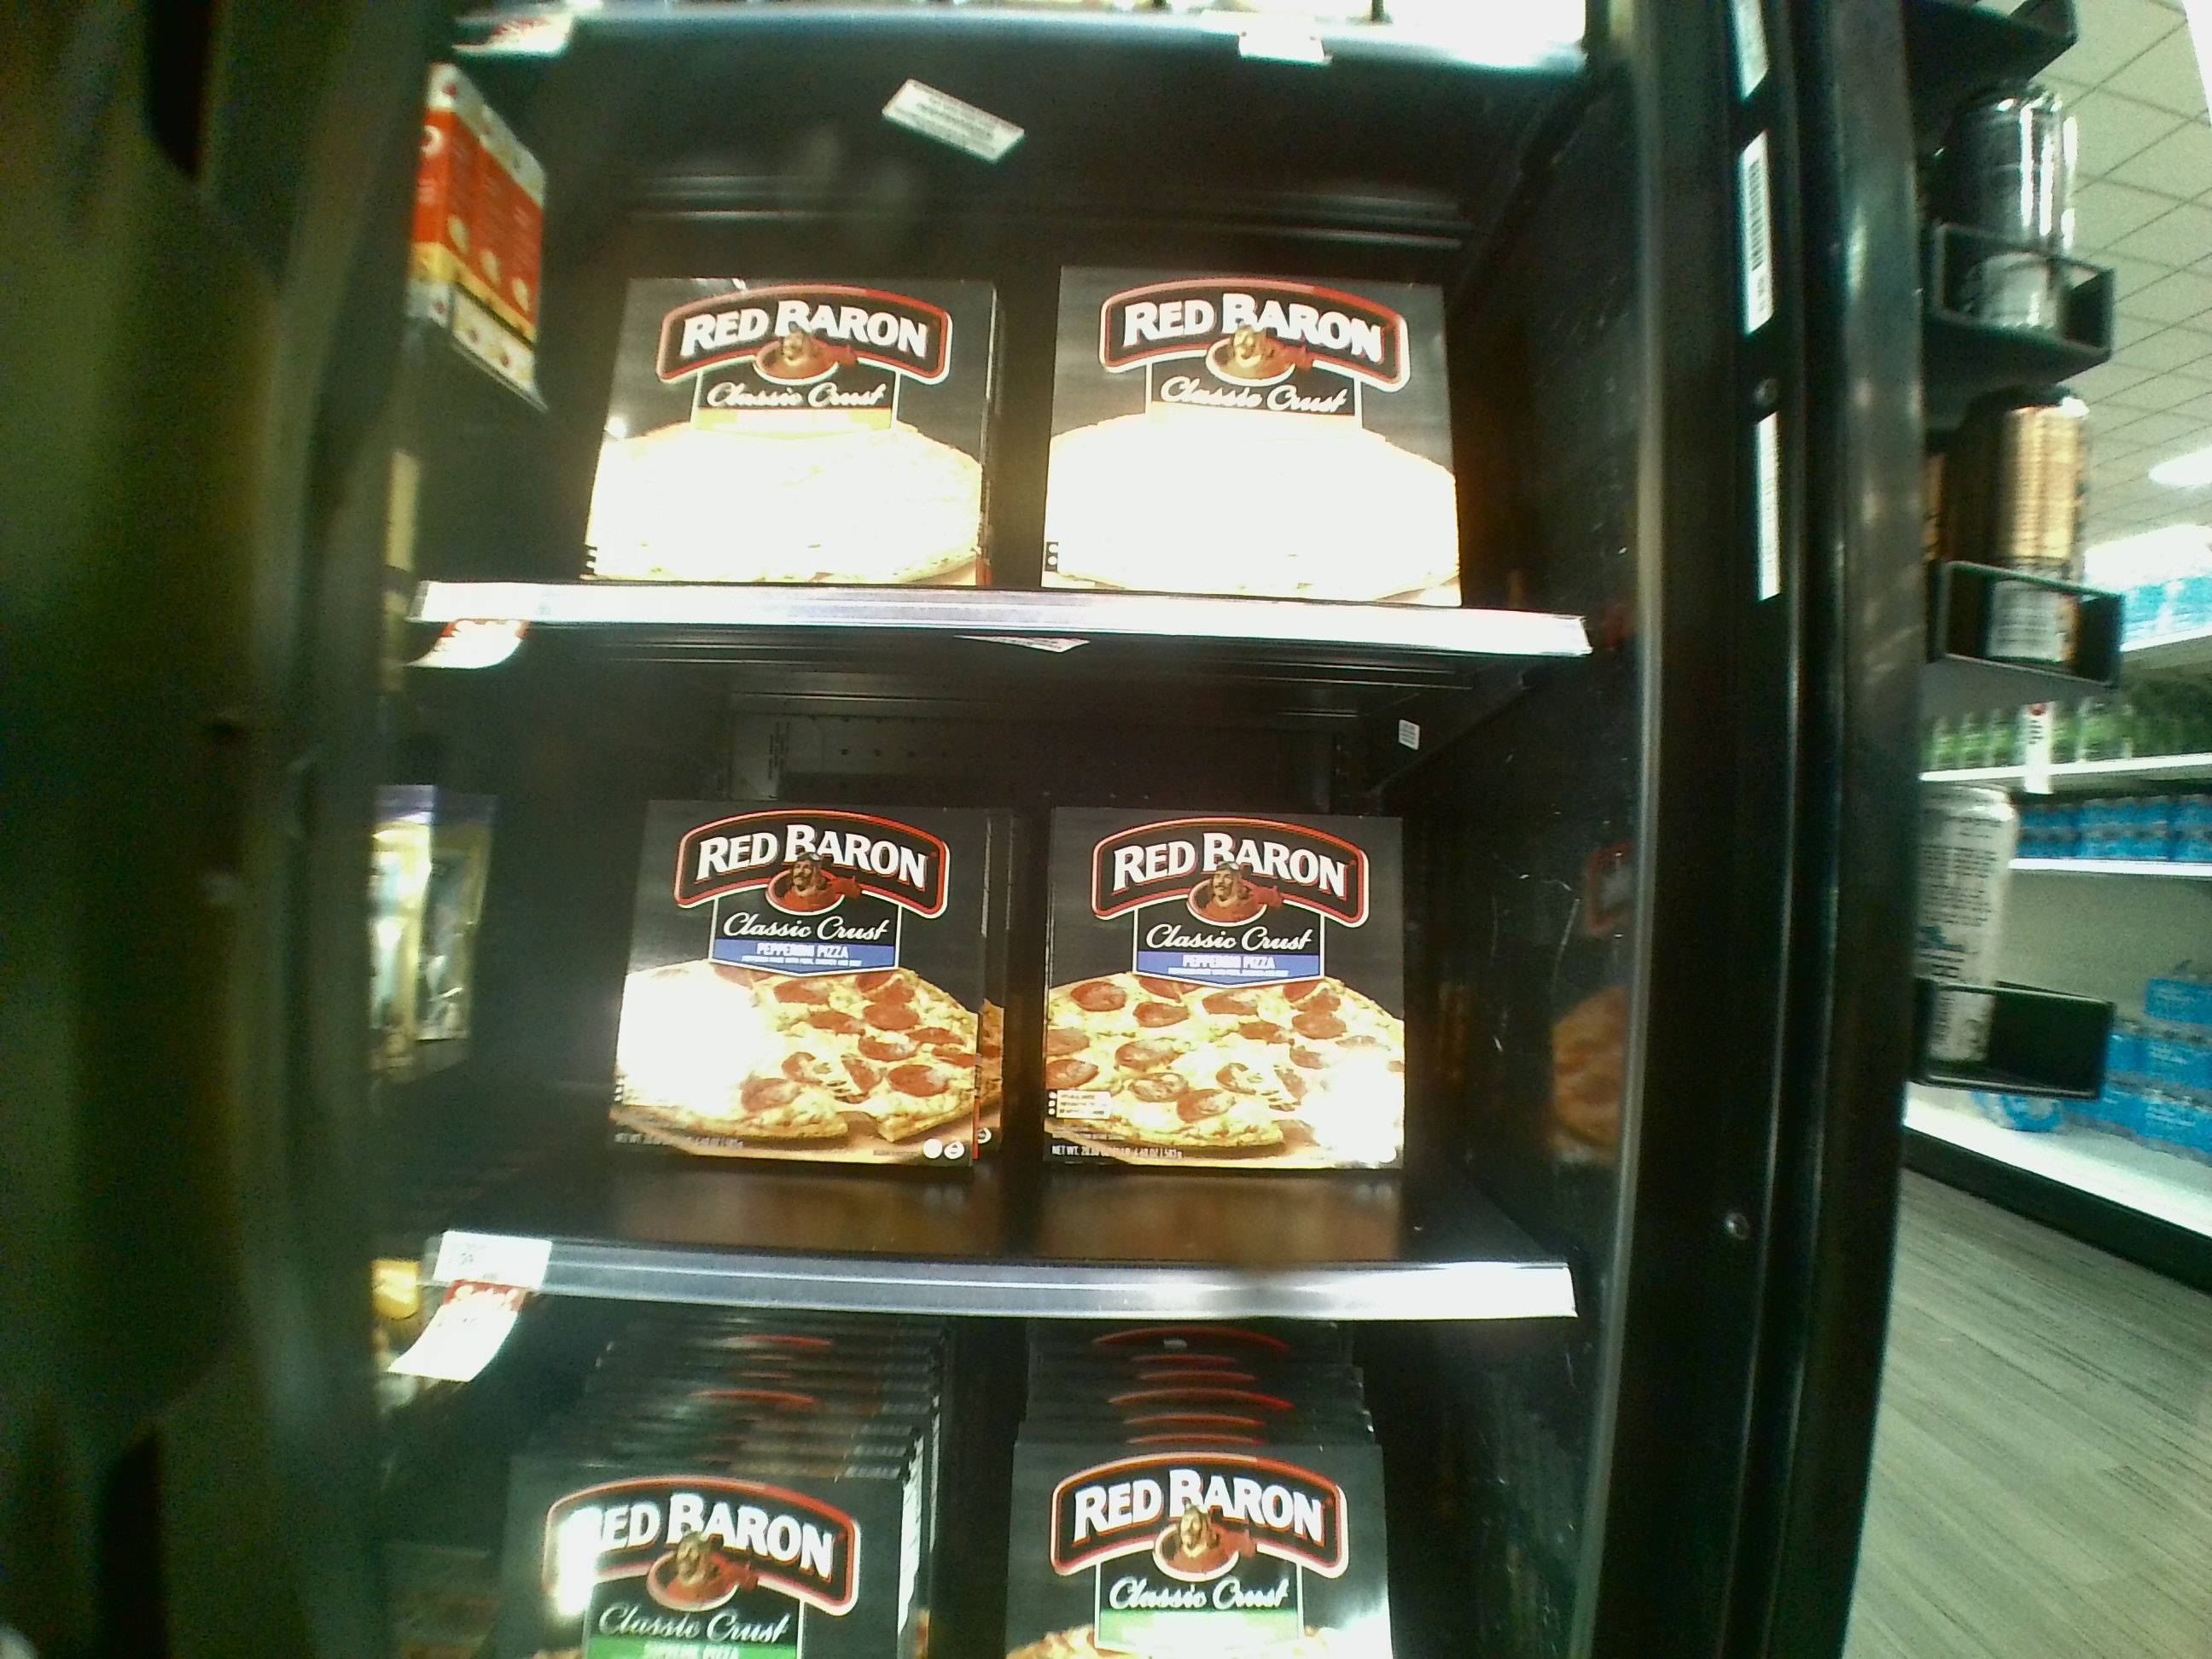shelf: (448, 657, 1575, 1317), (442, 35, 1611, 666)
